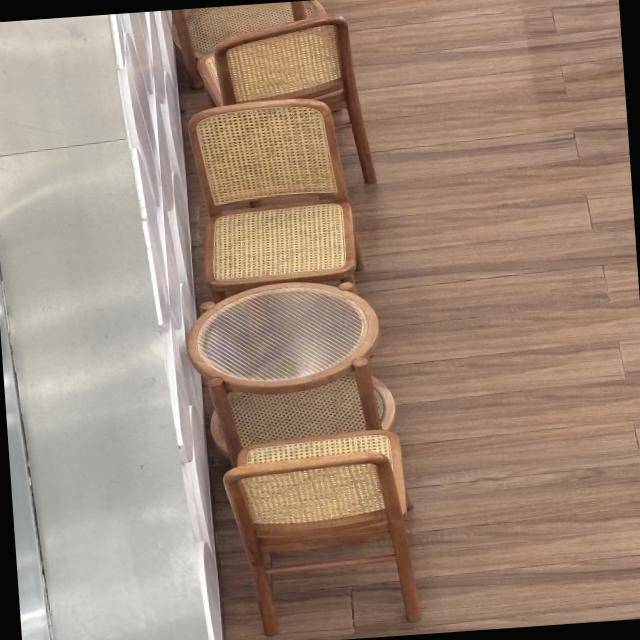Chair: (206, 417, 435, 640), (170, 90, 362, 317), (206, 3, 370, 205)
